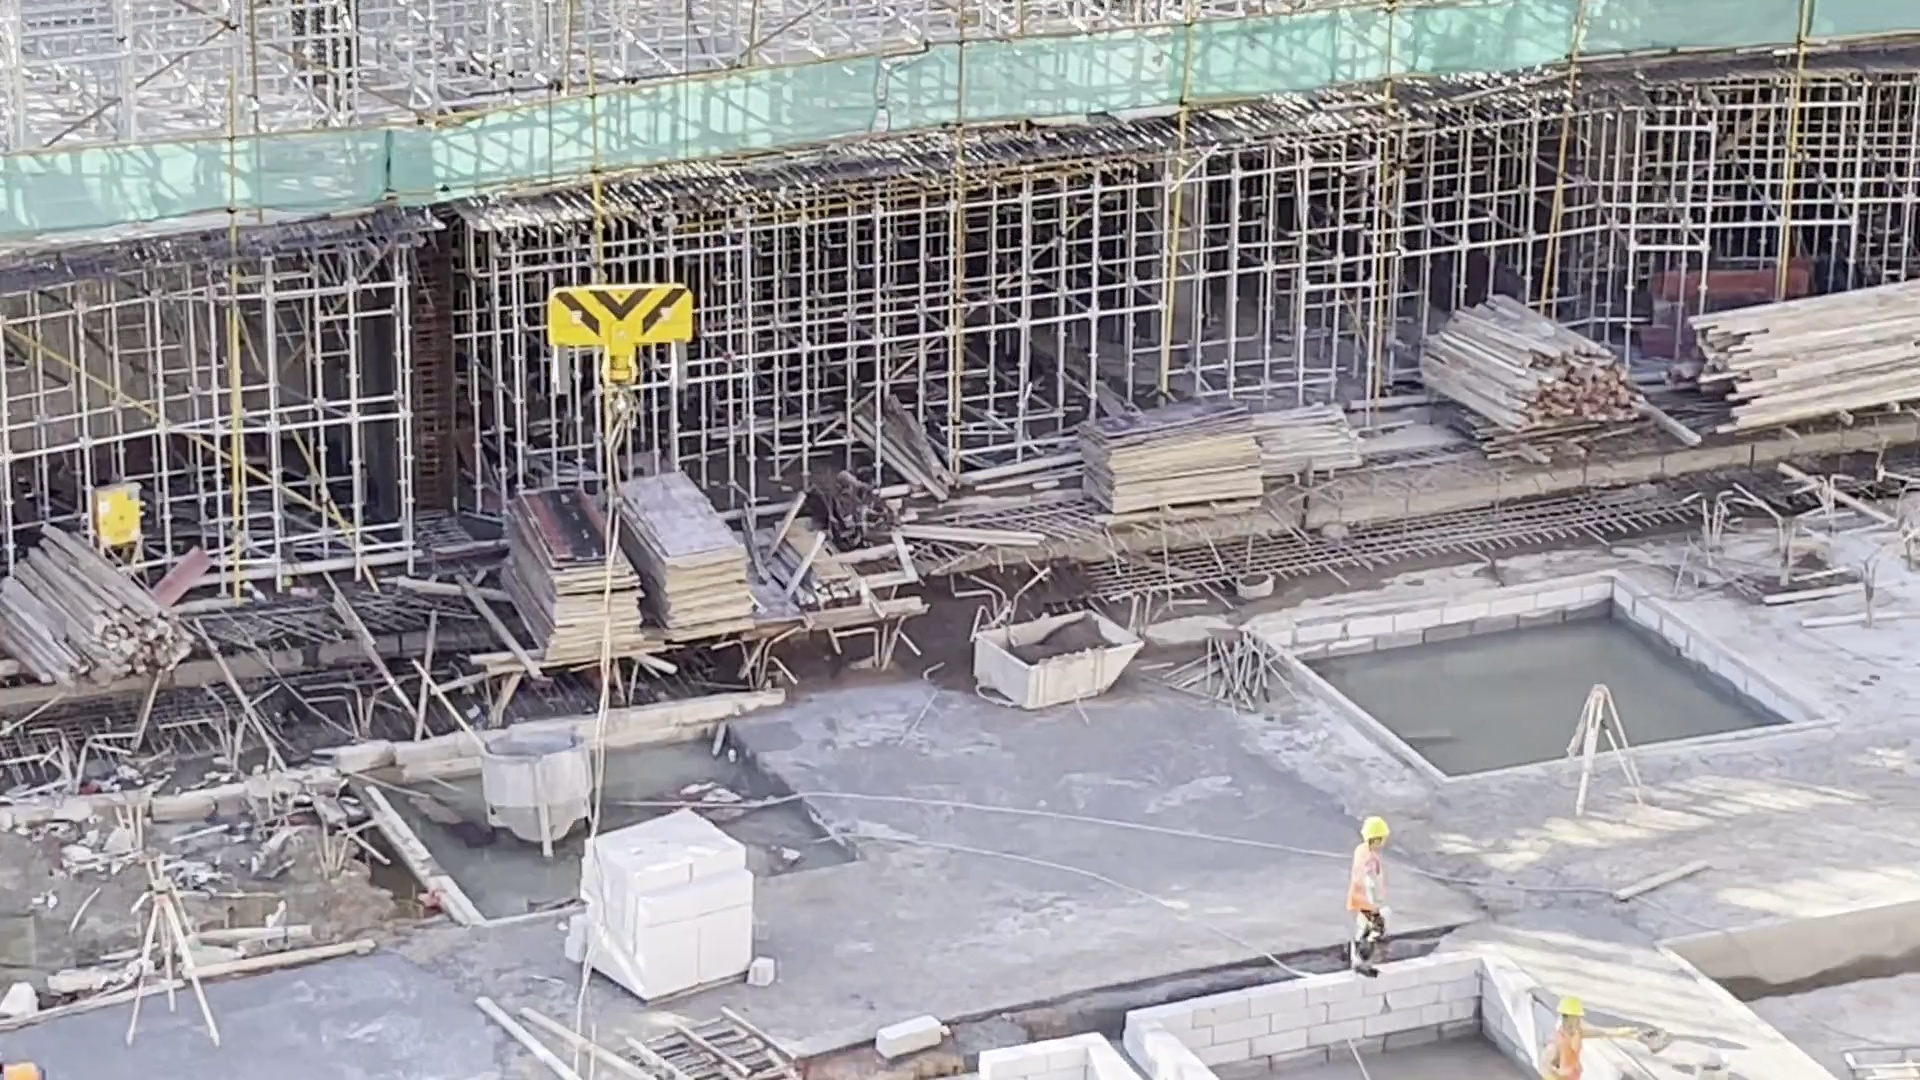board: (496, 483, 648, 667), (1074, 389, 1266, 530), (612, 467, 760, 641)
brick: (578, 802, 754, 1001)
ebox: (92, 475, 151, 556)
helmet: (1553, 997, 1589, 1020), (1358, 818, 1390, 843)
hook: (534, 275, 696, 427)
hopper: (973, 605, 1144, 705), (478, 724, 592, 857)
person: (1344, 814, 1395, 980), (1537, 996, 1638, 1080)
vest: (1348, 846, 1388, 914), (1547, 1031, 1588, 1080)
wood: (1682, 275, 1920, 435), (4, 517, 199, 691), (1415, 293, 1651, 434)
